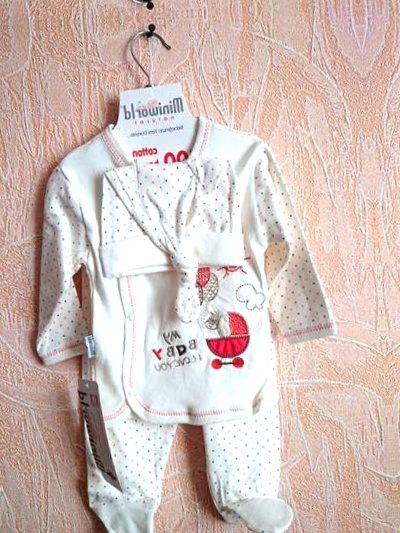Body: (12, 55, 359, 533)
